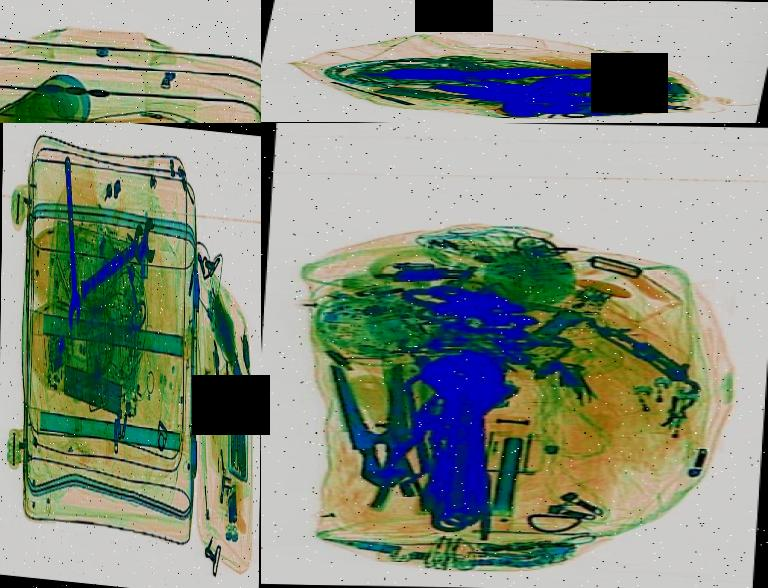Pliers: (323, 350, 439, 496), (619, 81, 678, 103)
Wrench: (75, 213, 152, 313), (58, 154, 84, 331)
